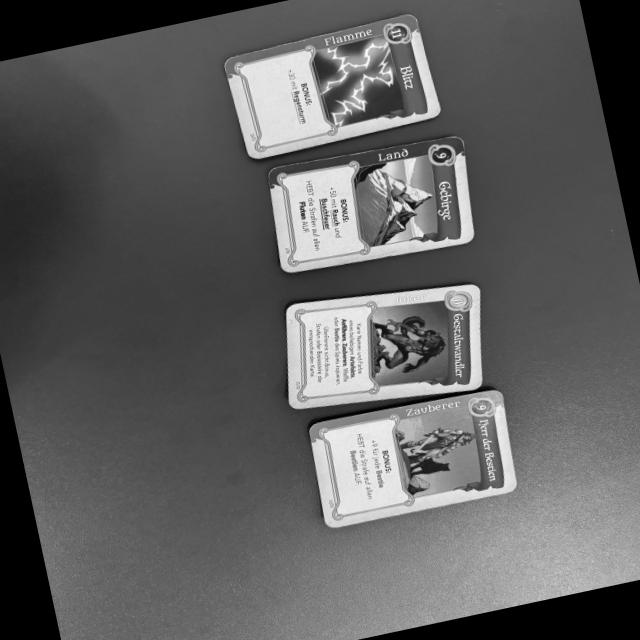Beast Master: (307, 387, 520, 531)
Lightning: (223, 11, 441, 162)
Mountain: (266, 134, 479, 274)
Shapeshifter: (287, 283, 481, 410)
